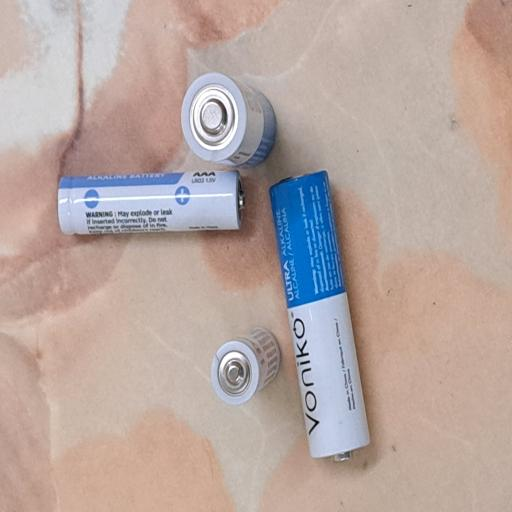battery: (269, 169, 371, 463), (57, 171, 246, 236), (180, 72, 276, 170), (211, 326, 281, 406)
